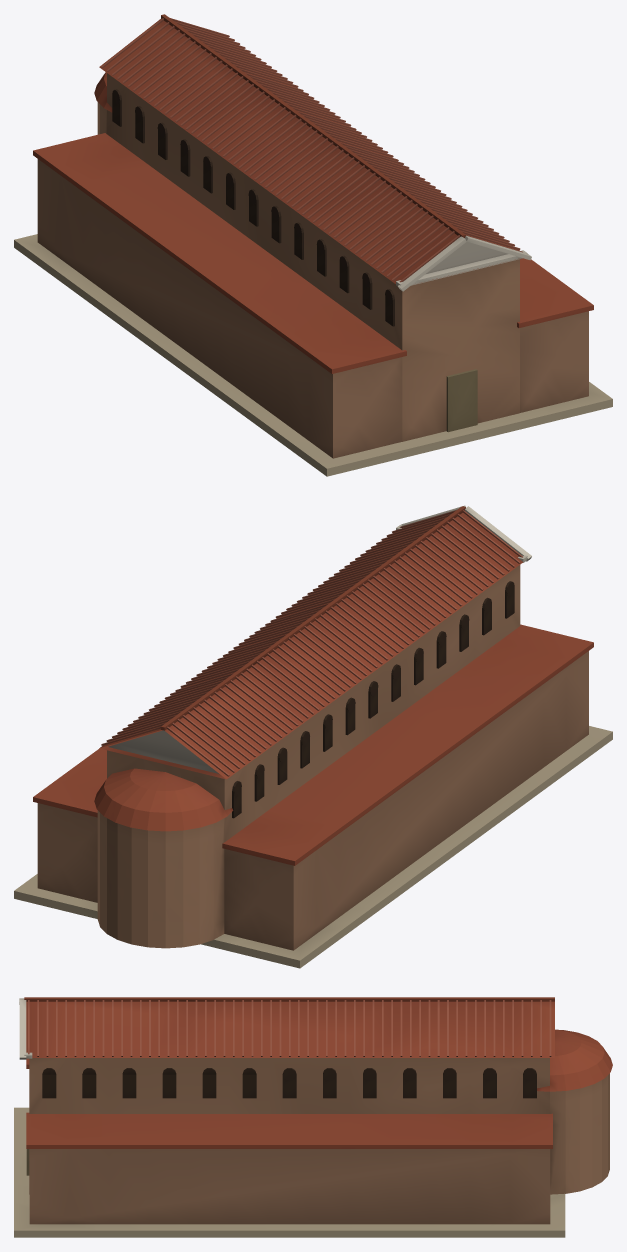
File: santa-maria-in-aracoeli.glb
The picture shows the model from 3 angles, top to bottom: view 1: azimuth 30°, elevation 25°; view 2: azimuth 150°, elevation 25°; view 3: azimuth 270°, elevation 25°; orthographic projection. The views are drawn at different scales.
Parts seen in each view (by area): view 1: p1_nave, p2_roofs, p0_base; view 2: p2_roofs, p1_nave, p0_base; view 3: p1_nave, p2_roofs, p0_base.
Part boxes in pixels (bbox=[...]): p1_nave: bbox=[37, 73, 588, 458]; p2_roofs: bbox=[33, 14, 593, 373]; p0_base: bbox=[14, 234, 612, 476]; p2_roofs: bbox=[33, 505, 593, 865]; p1_nave: bbox=[37, 565, 588, 950]; p0_base: bbox=[14, 726, 612, 968]; p1_nave: bbox=[26, 1058, 609, 1224]; p2_roofs: bbox=[19, 997, 612, 1148]; p0_base: bbox=[14, 1107, 565, 1237].
Size of the model in its own units: 38 by 25.68 by 78.22.
